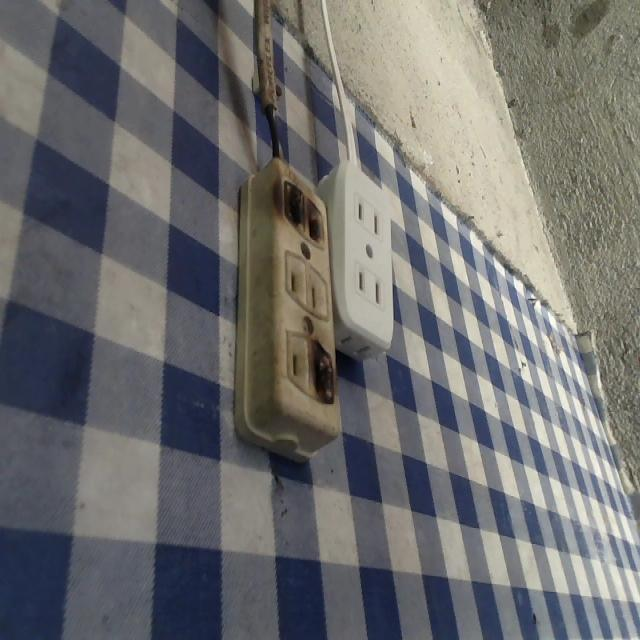-: (276, 173, 328, 248), (308, 337, 337, 403)
